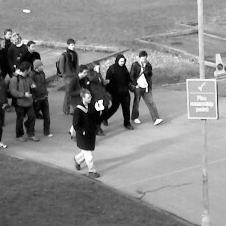person: (71, 89, 100, 178), (132, 51, 162, 127), (106, 52, 134, 130), (11, 61, 38, 141), (59, 38, 81, 114), (87, 59, 108, 136), (29, 57, 50, 134), (70, 64, 89, 133), (1, 71, 9, 149), (4, 29, 15, 76), (23, 40, 42, 63), (12, 33, 28, 60), (1, 38, 6, 76)
